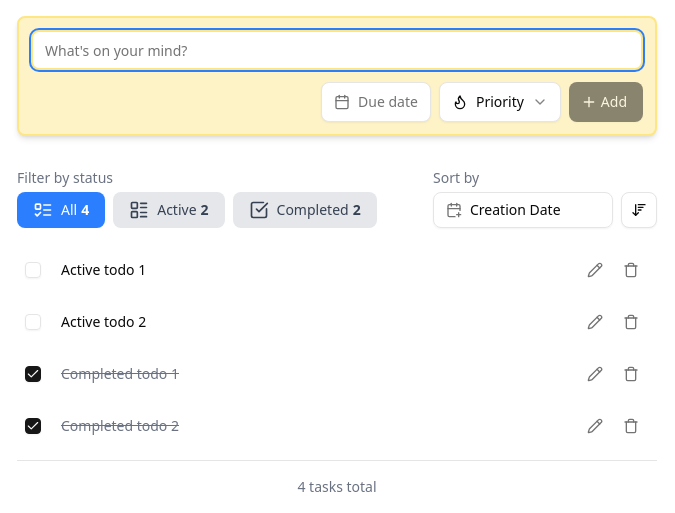
Test case: TodoContainer - Filtering › should return to showing all todos when All filter is clicked
This screenshot has width=675, height=513.
act is needed here
Click the button with aria-label "show active todos" at (169,210), box 113,192 -> 225,228
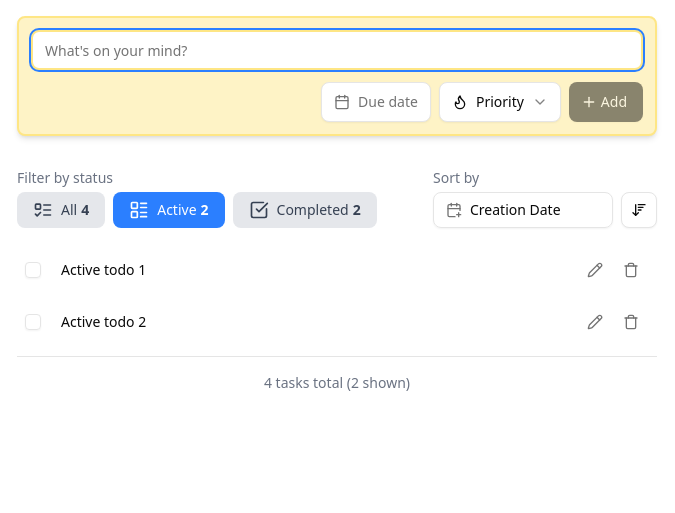
act is needed here
Click the button with aria-label "show all todos" at (61,210), box 17,192 -> 105,228
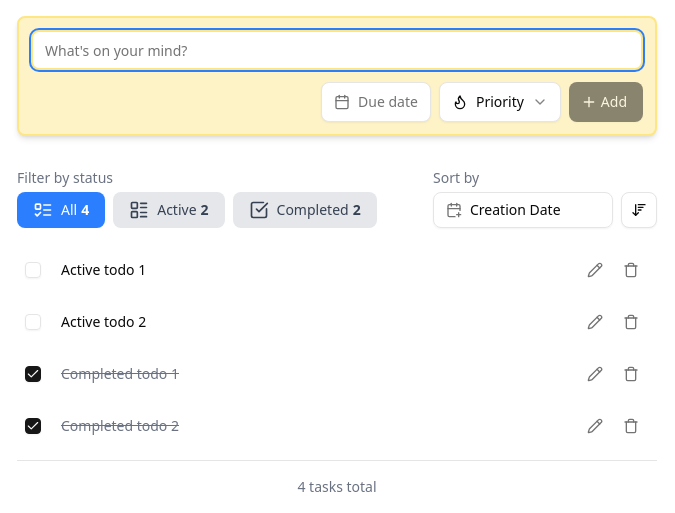
Expected: the text "Completed todo 1" is shown, 61,364 -> 179,384
Expected: the text "Completed todo 2" is shown, 61,416 -> 179,436
Expected: the text "4 tasks total" is shown, 297,477 -> 376,496
